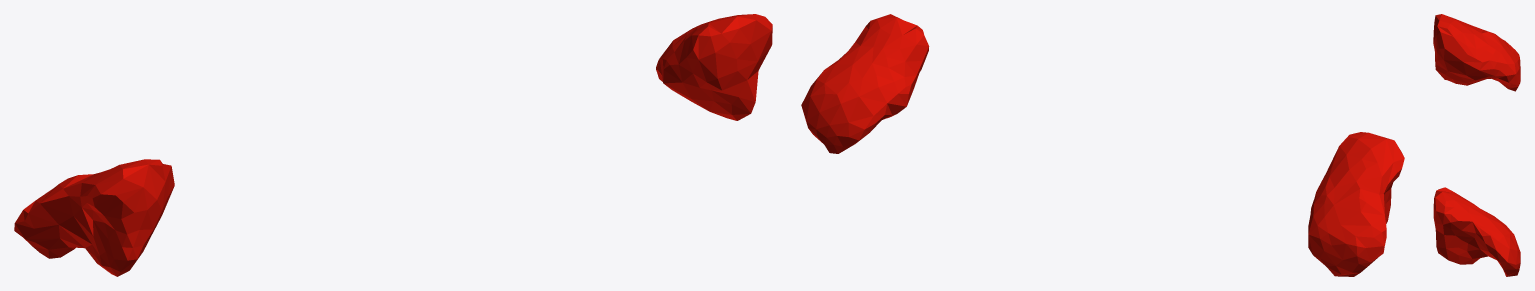
The model's file is 224-13L-area 13 of cortex, lateral part-('1.0000', '0.0745', '0.0000').obj.
The picture shows the model from 3 angles, left to right: view 1: azimuth 30°, elevation 25°; view 2: azimuth 150°, elevation 25°; view 3: azimuth 270°, elevation 25°; orthographic projection. The views are drawn at different scales.
Bounding box in the file's own units: 191 × 32.51 × 32.97.
